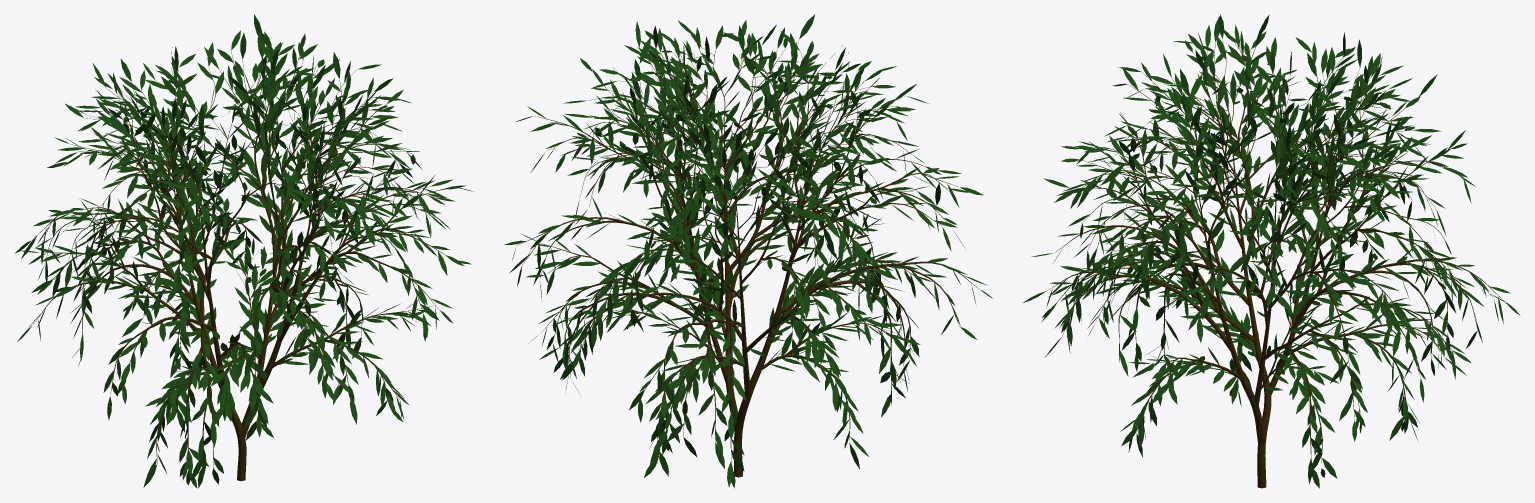
File: Kantuta.fbx
3 renders of one model, left to right at view 1: azimuth 30°, elevation 25°; view 2: azimuth 150°, elevation 25°; view 3: azimuth 270°, elevation 25°, orthographic. The views are drawn at different scales.
Visible parts, largest first — view 1: leaves, tree; view 2: leaves, tree; view 3: leaves, tree.
Part boxes in pixels (x1,y1,x2,y2): leaves: (15,14,473,488); tree: (32,48,452,481); leaves: (504,14,993,488); tree: (517,36,978,477); leaves: (1023,14,1520,488); tree: (1047,35,1504,488).
Bounding box in the file's own units: 608 × 650 × 661.
